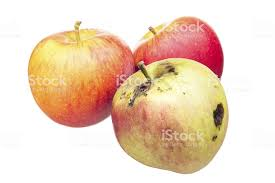apple: (30, 32, 134, 127), (137, 18, 225, 76)
damaged_apple: (112, 60, 229, 174)
